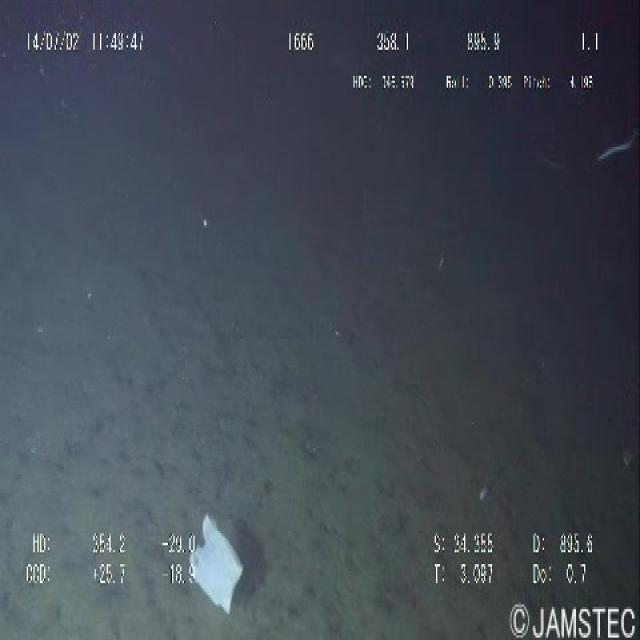plastic: (180, 500, 249, 621)
